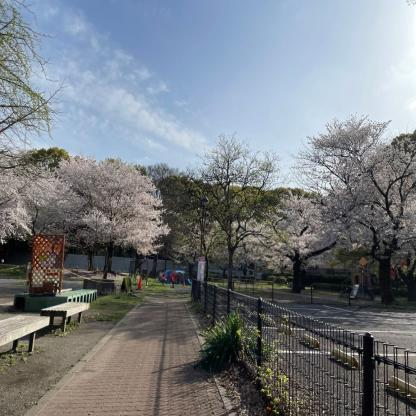Someiyoshino: (0, 138, 181, 267), (296, 104, 416, 265), (256, 190, 343, 278), (184, 210, 270, 267)
